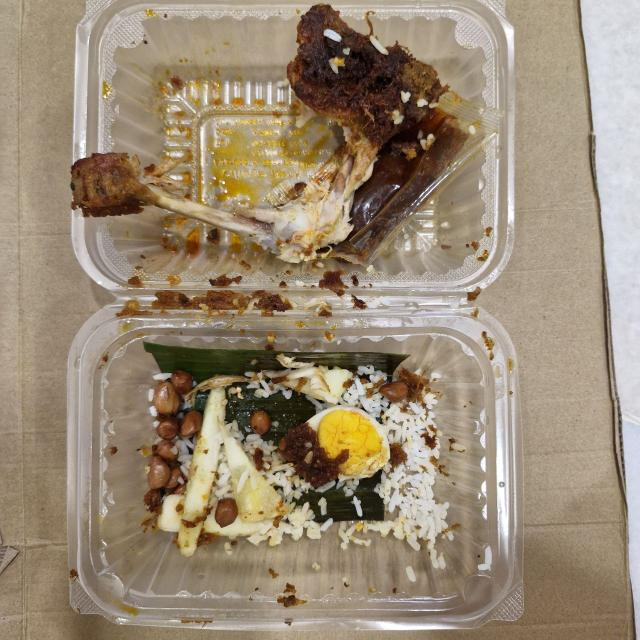food_waste: (79, 15, 447, 266), (138, 337, 456, 559)
plastic: (72, 8, 522, 620)
